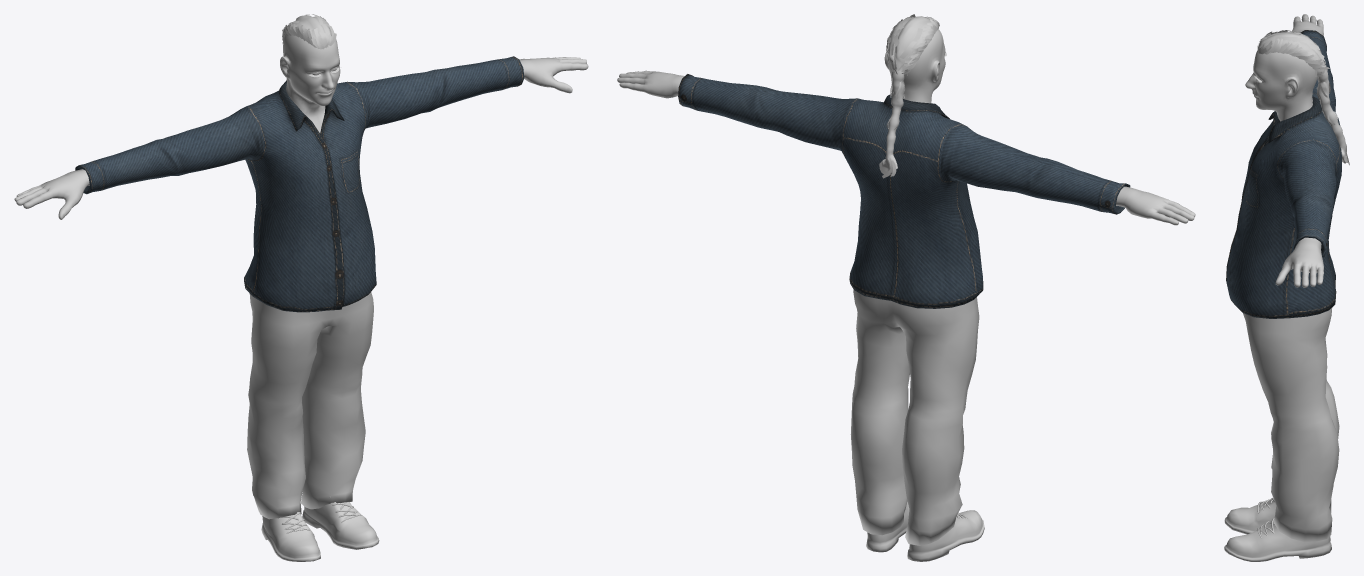
File: A_Casual 2.obj
3 views of the same model, side by side, from view 1: azimuth 30°, elevation 25°; view 2: azimuth 150°, elevation 25°; view 3: azimuth 270°, elevation 25° (orthographic). The views are drawn at different scales.
Visible parts, largest first — view 1: Tops, Bottoms, Body, Shoes, Hair; view 2: Tops, Bottoms, Body, Hair, Shoes; view 3: Tops, Bottoms, Body, Shoes, Hair.
Part boxes in pixels (x1,y1,x2,y2): Tops: [75, 56, 524, 312]; Bottoms: [247, 292, 373, 519]; Body: [14, 35, 588, 219]; Shoes: [261, 496, 379, 561]; Hair: [282, 14, 336, 80]; Tops: [678, 74, 1130, 308]; Bottoms: [850, 290, 979, 545]; Body: [617, 29, 1195, 225]; Hair: [879, 14, 939, 178]; Shoes: [866, 501, 984, 561]; Tops: [1226, 30, 1341, 318]; Bottoms: [1243, 308, 1339, 542]; Body: [1245, 14, 1323, 287]; Shoes: [1224, 497, 1331, 561]; Hair: [1257, 30, 1349, 165].
Bounding box in the file's own units: 210 × 182 × 40.62.
